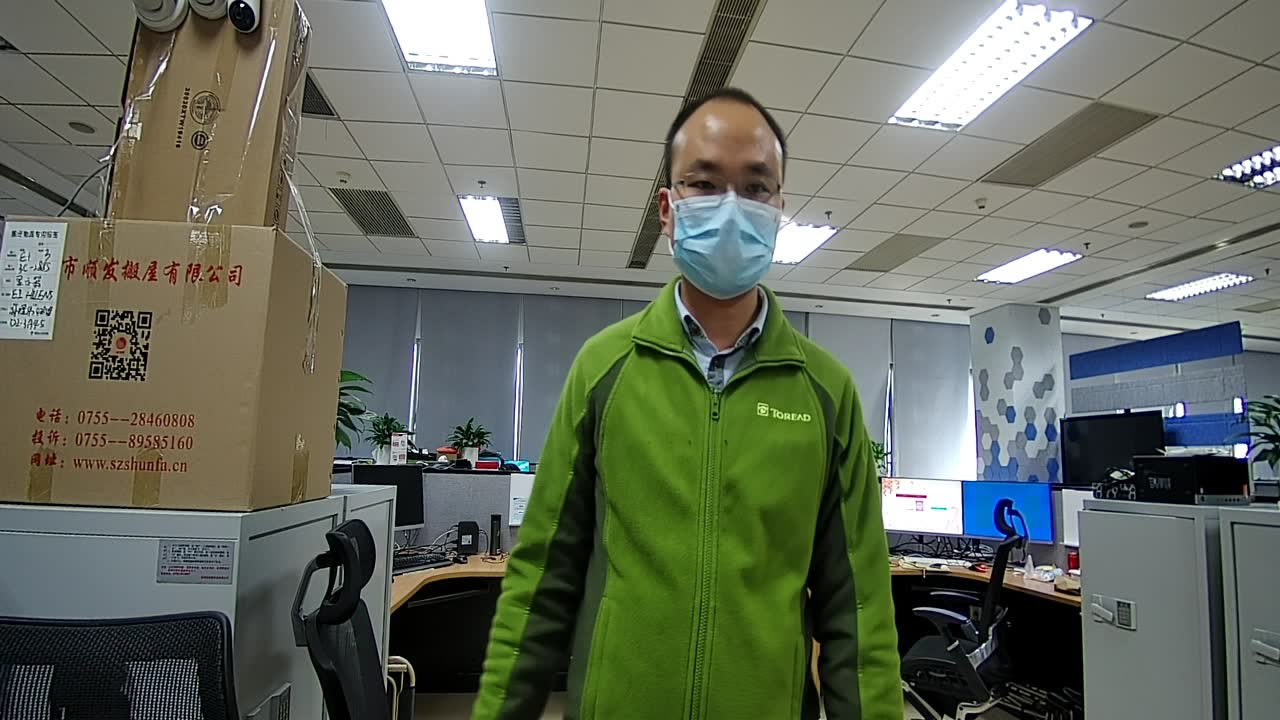face: (666, 113, 776, 301)
mask: (672, 192, 773, 300)
person: (550, 72, 861, 410)
